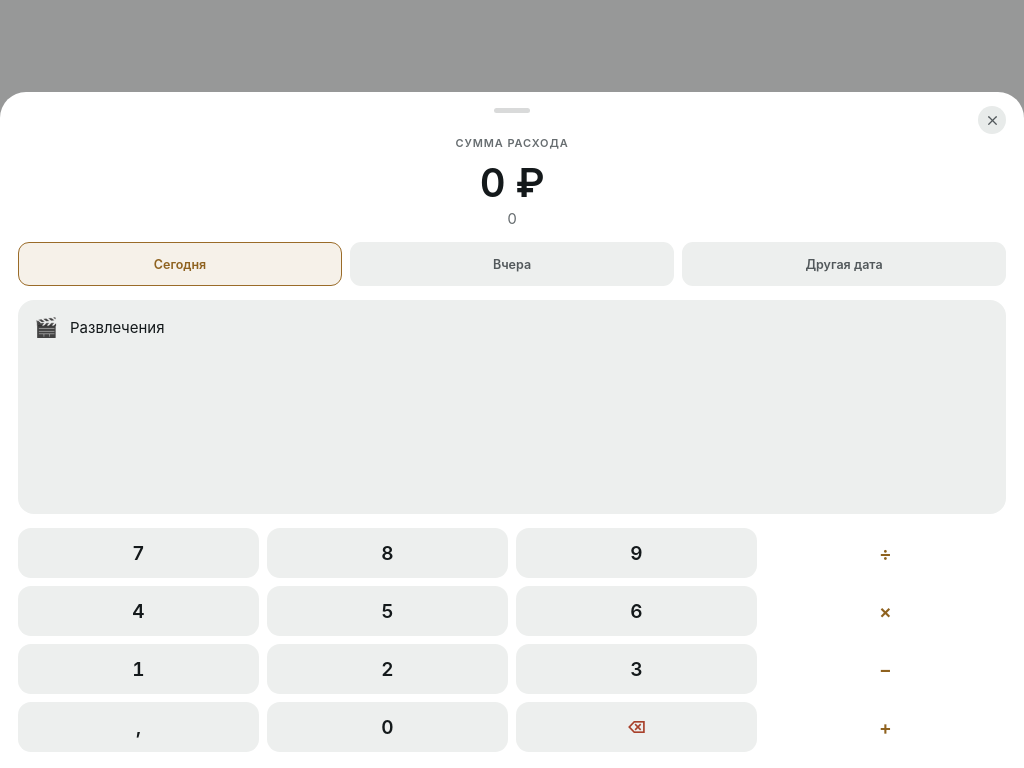
Test: ExpenseModal — adding a new expense › builds the amount from keypad taps and shows it live
This screenshot has width=1024, height=768.
Click the button with class "keypad__key" showing "1". click: {"x": 138, "y": 669}
box: [18,644,259,694]
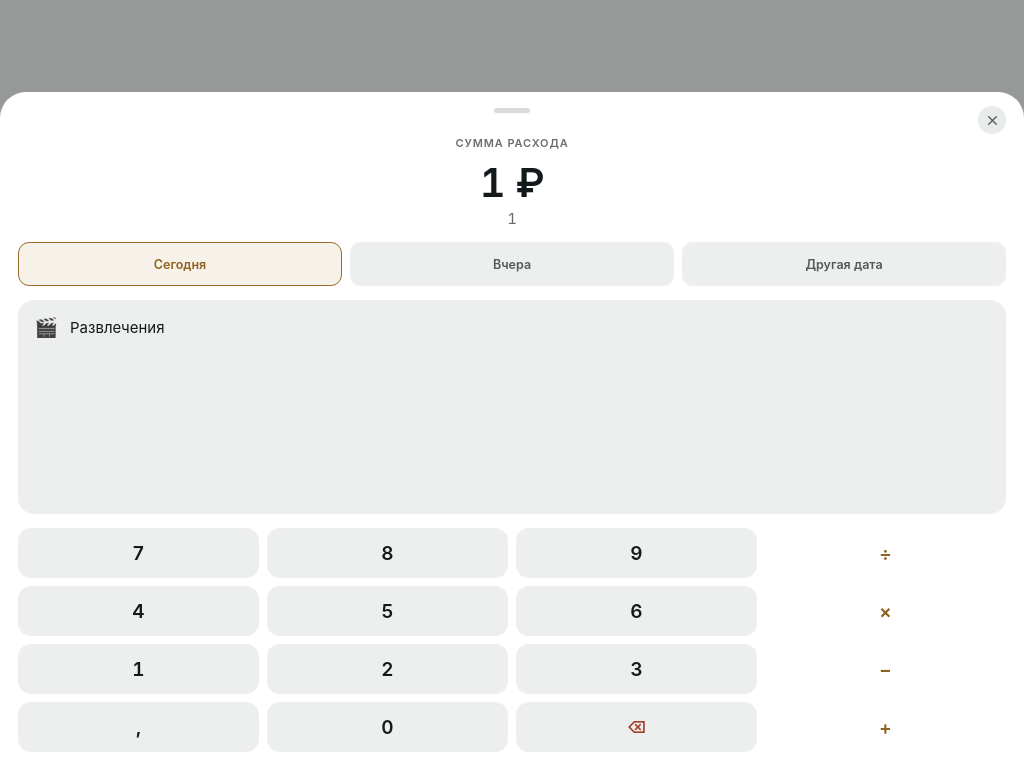
Click the button with class "keypad__key" showing "2". click: {"x": 388, "y": 669}
box: [267,644,508,694]
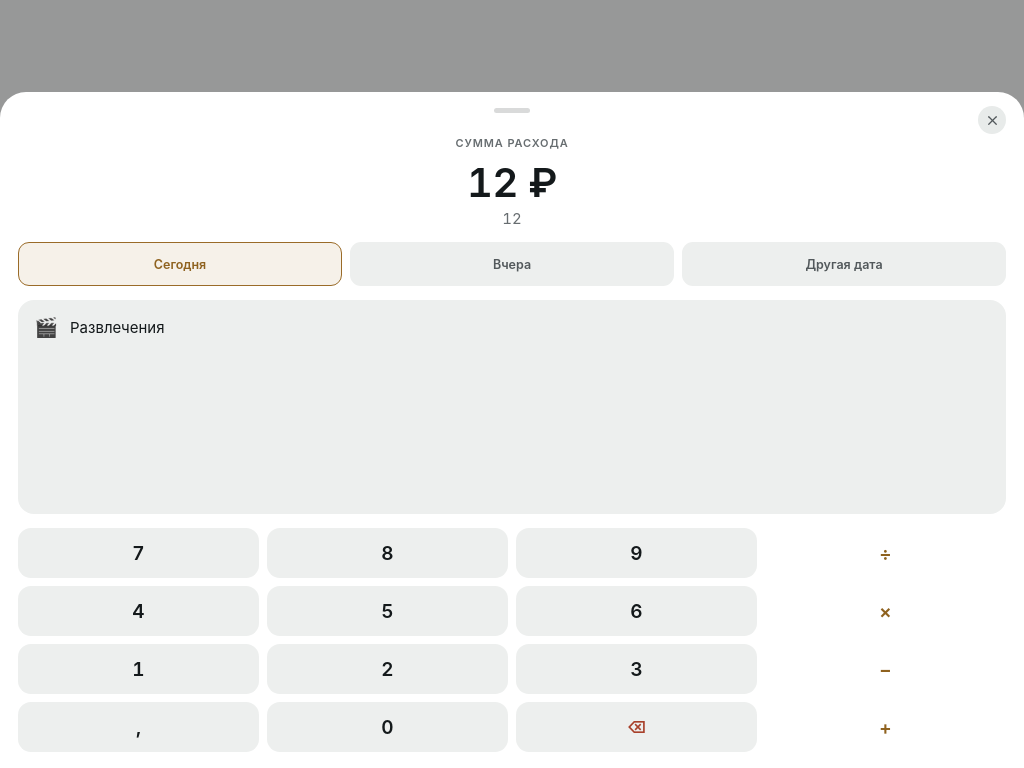
Click the button with class "keypad__key" showing "4". click: {"x": 138, "y": 611}
box: [18,586,259,636]
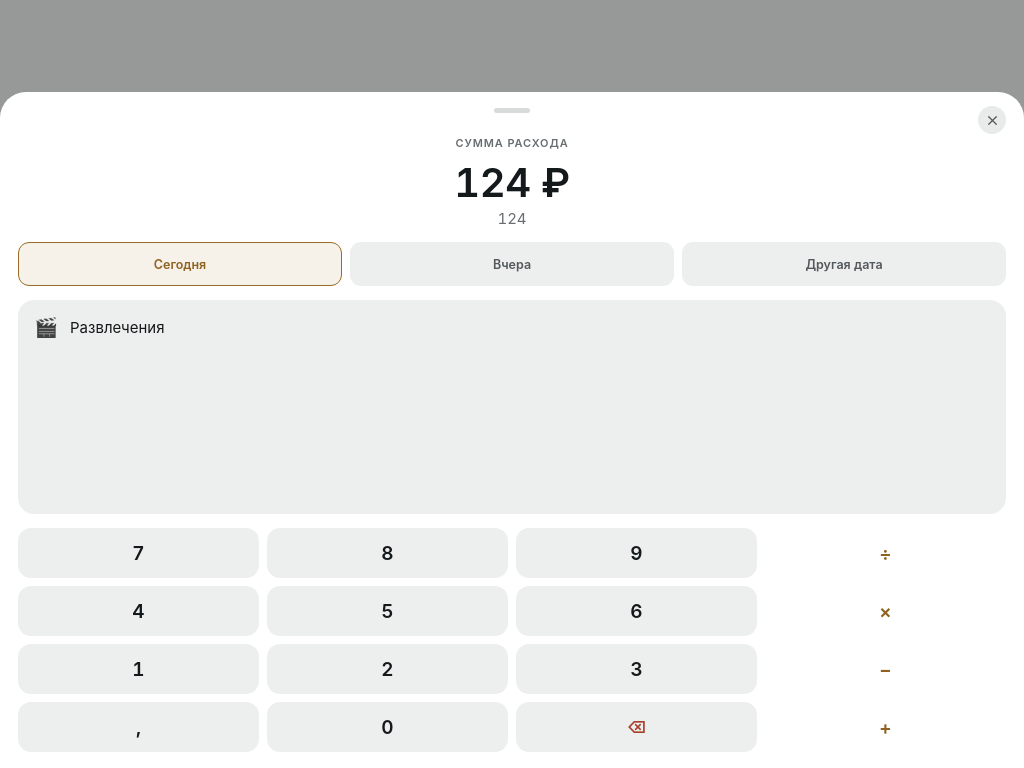
Click the button with class "keypad__key" showing "0". click: {"x": 388, "y": 727}
box: [267,702,508,752]
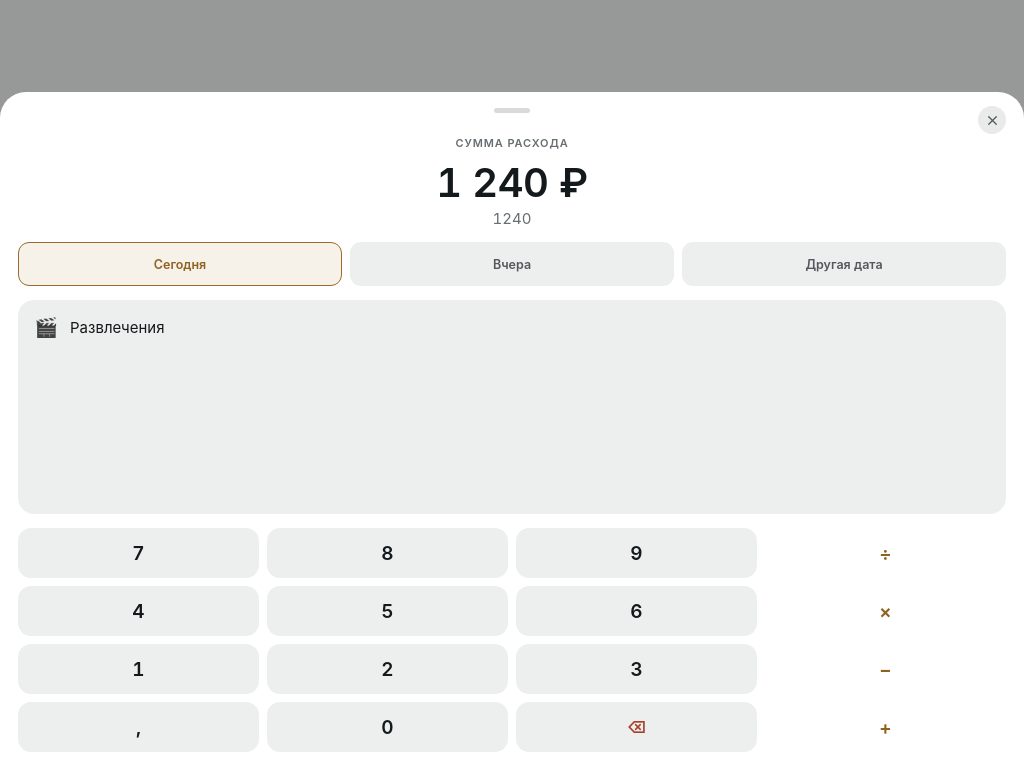
Expected: the text with class "expense-modal__entry-expression" reads "1240", [492,209,531,228]
